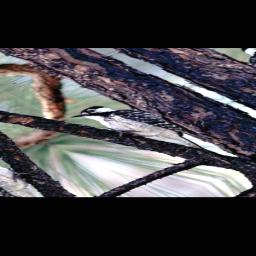Woodpecker: (65, 97, 223, 162)
